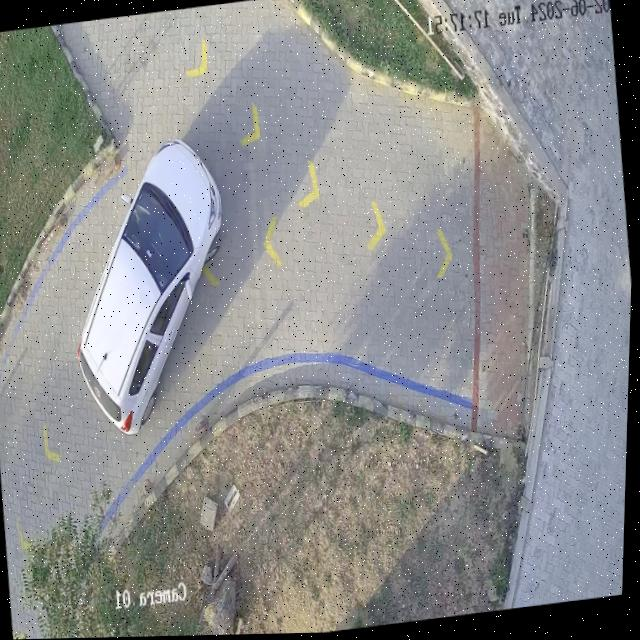car: (79, 141, 223, 435)
